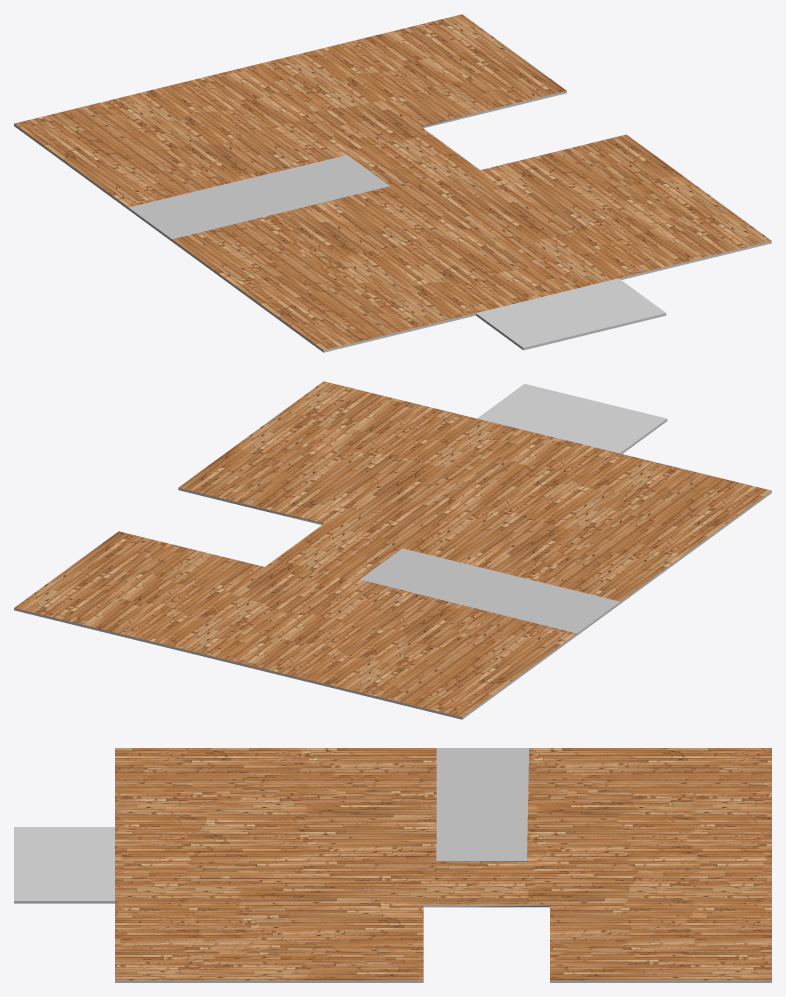
The model's file is chao com malha quase aberta.fbx.
3 renders of one model, top to bottom at view 1: azimuth 30°, elevation 25°; view 2: azimuth 150°, elevation 25°; view 3: azimuth 270°, elevation 25°, orthographic. The views are drawn at different scales.
Parts seen in each view (by area): view 1: teto_andar1; view 2: teto_andar1; view 3: teto_andar1.
Part boxes in pixels (box(x1,y1,x2,y2)): teto_andar1: box(14, 14, 771, 352); teto_andar1: box(14, 381, 771, 719); teto_andar1: box(14, 748, 771, 982).
Size of the model in its own units: 0.9413 by 0.005 by 1.3.
